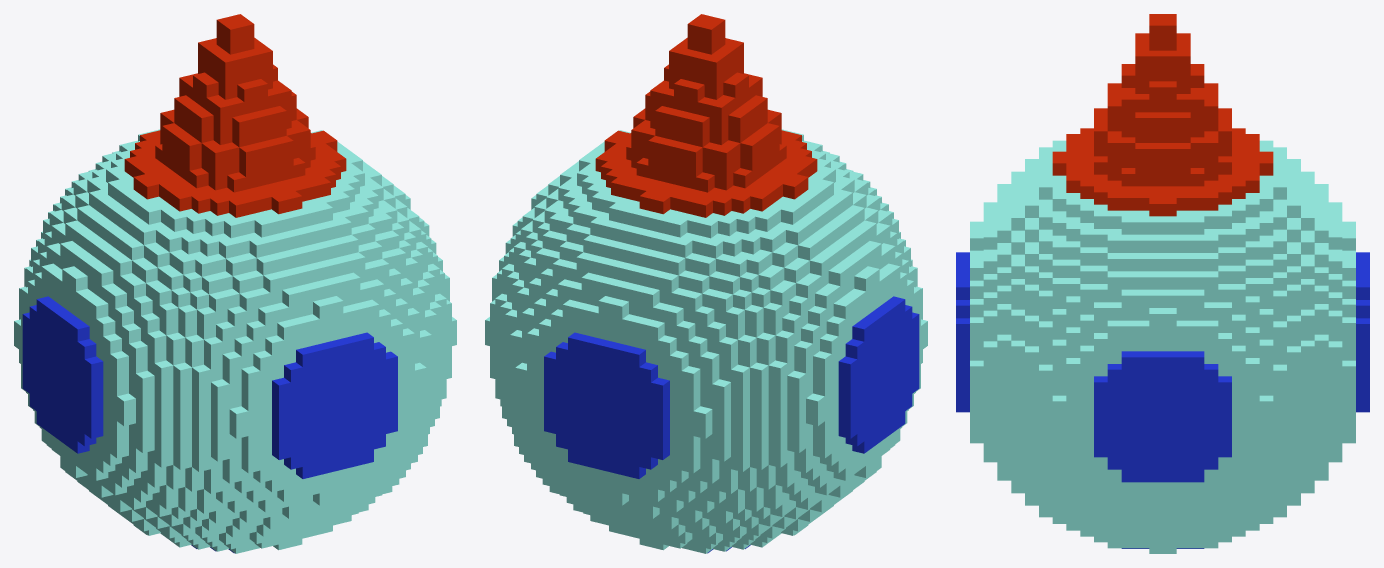
File: Character_11.fbx
3 views of the same model, side by side, from view 1: azimuth 30°, elevation 25°; view 2: azimuth 150°, elevation 25°; view 3: azimuth 270°, elevation 25° (orthographic).
Parts seen in each view (by area): view 1: Character_11; view 2: Character_11; view 3: Character_11.
Boxes of the visible parts, x1=… form: Character_11: x1=14, y1=14, x2=456, y2=553; Character_11: x1=485, y1=14, x2=927, y2=553; Character_11: x1=956, y1=14, x2=1369, y2=553.
Size of the model in its own units: 30 by 40 by 30.
1 material, 1 textured.
